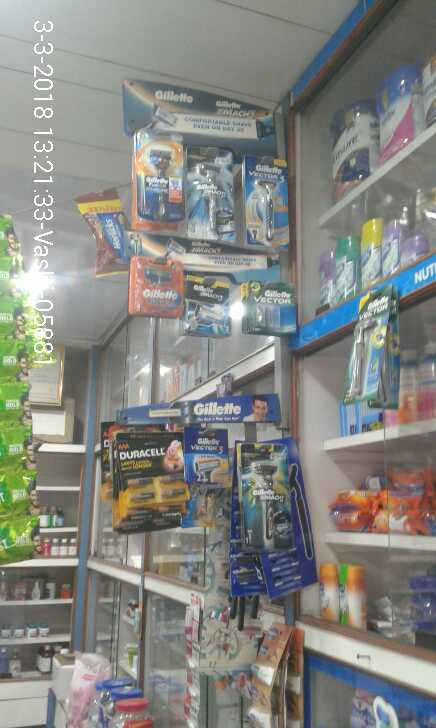gillette: (332, 289, 399, 405), (186, 140, 241, 246), (236, 442, 283, 549), (134, 132, 183, 223), (240, 278, 301, 339), (244, 157, 286, 245), (183, 275, 232, 339), (130, 260, 186, 315), (185, 428, 224, 473)
